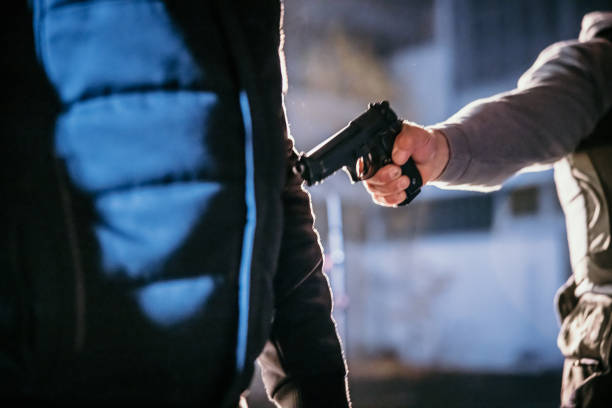gun: (303, 98, 423, 207)
